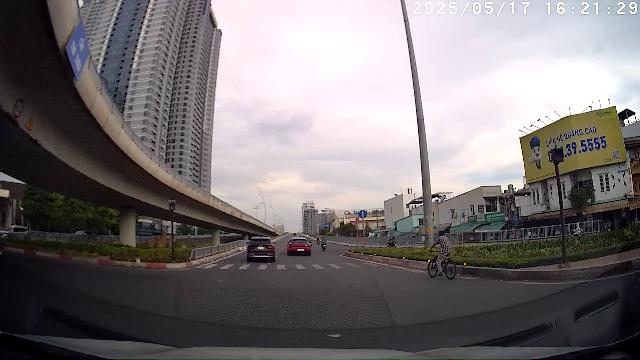301a-cac-xe-chi-duoc-di-thang: (358, 209, 368, 219)
